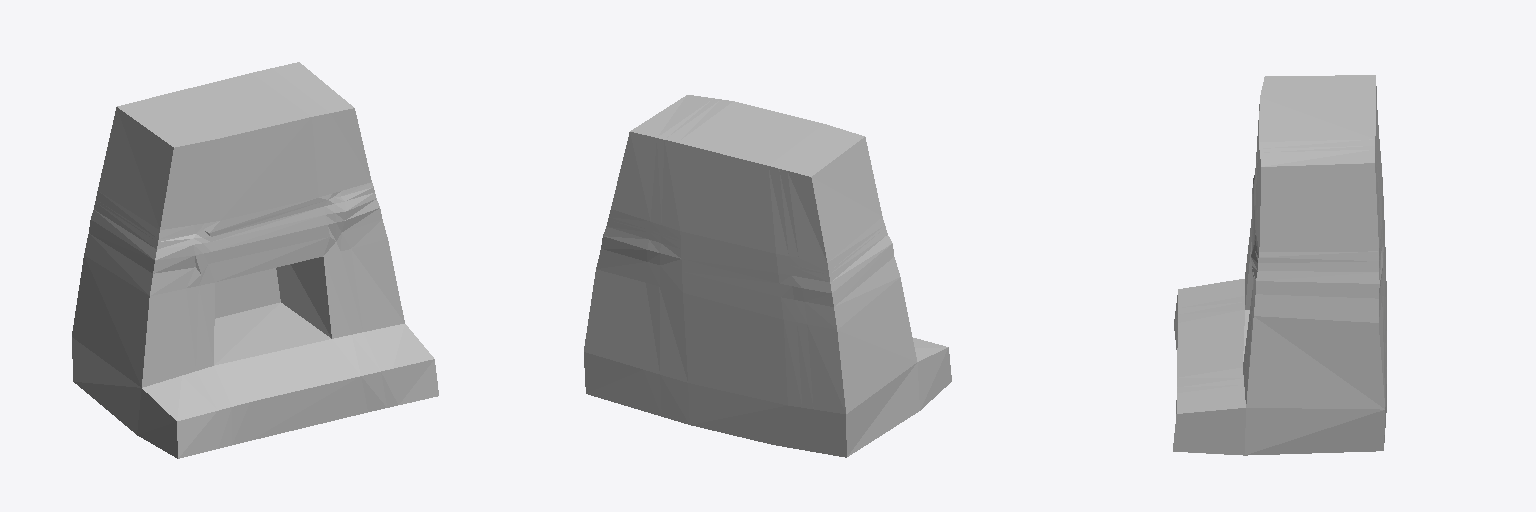
The model's file is FirePlace.obj.
3 renders of one model, left to right at view 1: azimuth 30°, elevation 25°; view 2: azimuth 150°, elevation 25°; view 3: azimuth 270°, elevation 25°, orthographic.
Parts seen in each view (by area): view 1: FirePlace2 Fireplace; view 2: FirePlace2 Fireplace; view 3: FirePlace2 Fireplace.
Boxes of the visible parts, <box> form: FirePlace2 Fireplace: <box>72,62,438,458</box>; FirePlace2 Fireplace: <box>584,95,951,457</box>; FirePlace2 Fireplace: <box>1173,75,1386,455</box>.
Bounding box in the file's own units: 228 × 222 × 157.